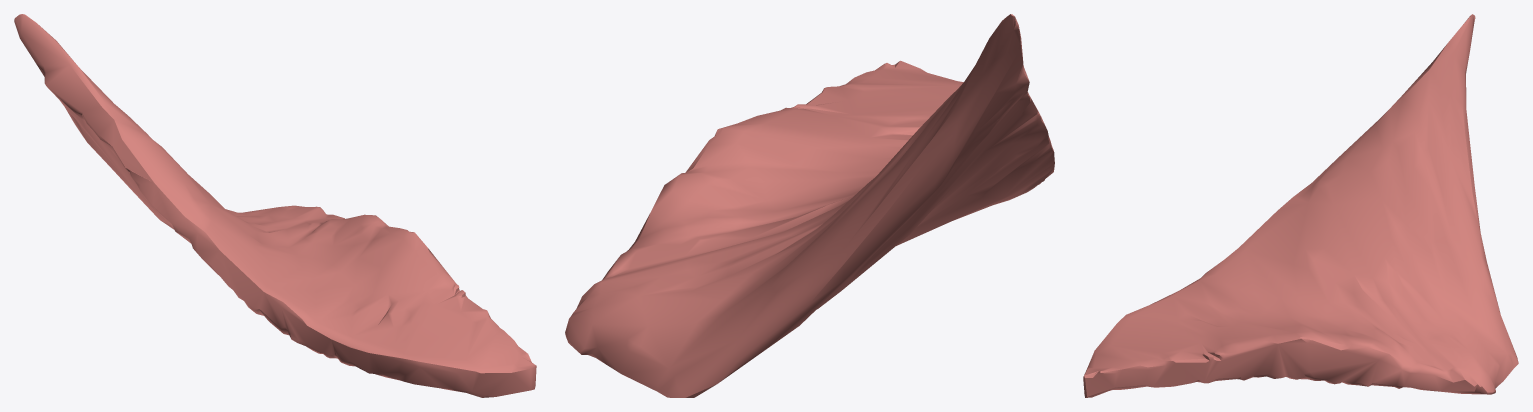
The model's file is fma46321_fj1583.glb.
3 renders of one model, left to right at view 1: azimuth 30°, elevation 25°; view 2: azimuth 150°, elevation 25°; view 3: azimuth 270°, elevation 25°, orthographic. The views are drawn at different scales.
Parts seen in each view (by area): view 1: FMA46321_FJ1583; view 2: FMA46321_FJ1583; view 3: FMA46321_FJ1583.
Boxes of the visible parts, bbox=[...] form: FMA46321_FJ1583: bbox=[14, 14, 536, 397]; FMA46321_FJ1583: bbox=[565, 14, 1054, 397]; FMA46321_FJ1583: bbox=[1083, 14, 1518, 397].
Size of the model in its own units: 0.0261 by 0.0242 by 0.0366.
